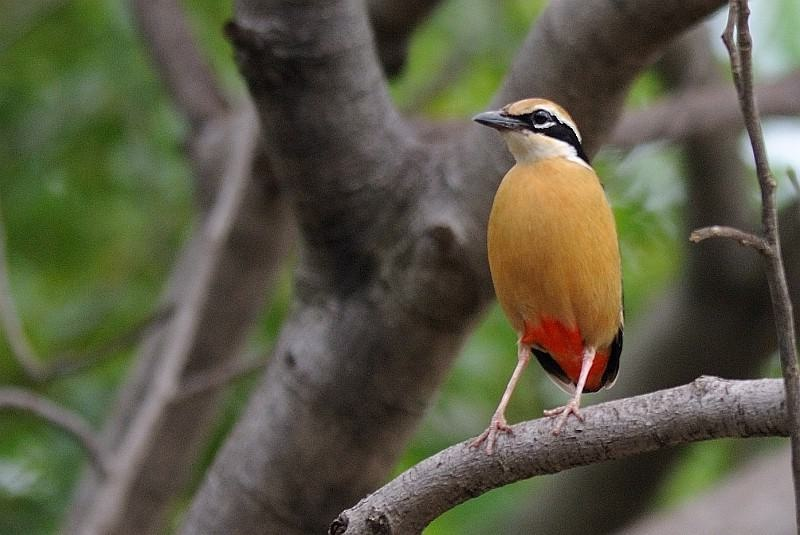pitta: (429, 67, 665, 416)
